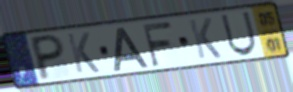A: (112, 26, 151, 73)
F: (140, 20, 174, 69)
K: (65, 31, 102, 75), (187, 17, 224, 61)
P: (30, 32, 66, 83)
U: (219, 10, 259, 58)
